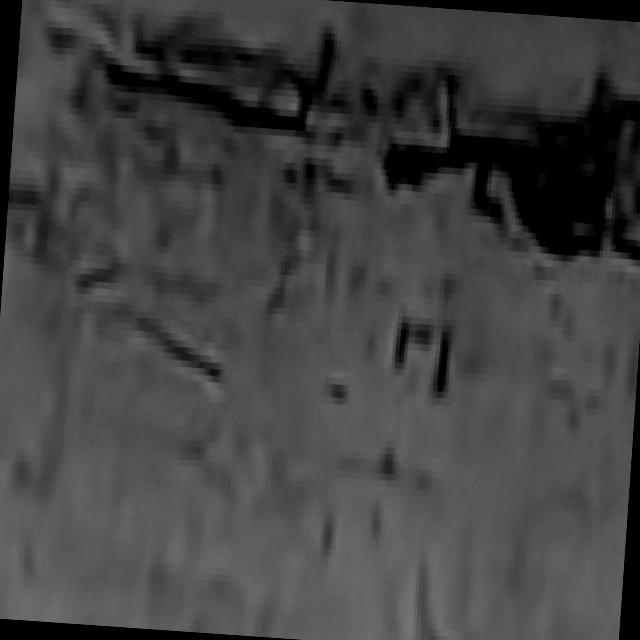crack: (104, 24, 290, 162)
